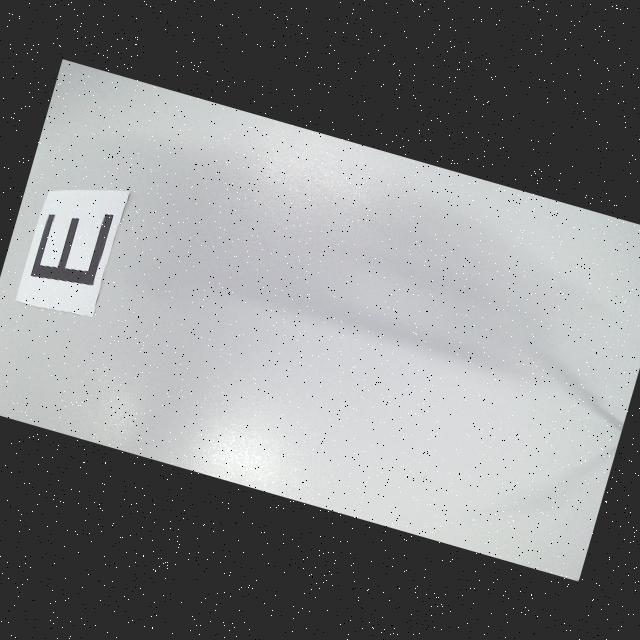FAKE: (28, 196, 114, 294)
